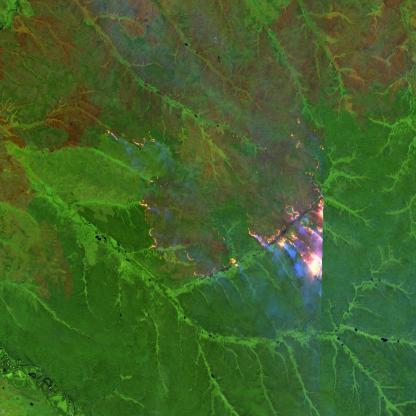fire: (249, 184, 332, 283), (137, 175, 164, 254), (103, 122, 156, 153), (224, 247, 244, 274)
